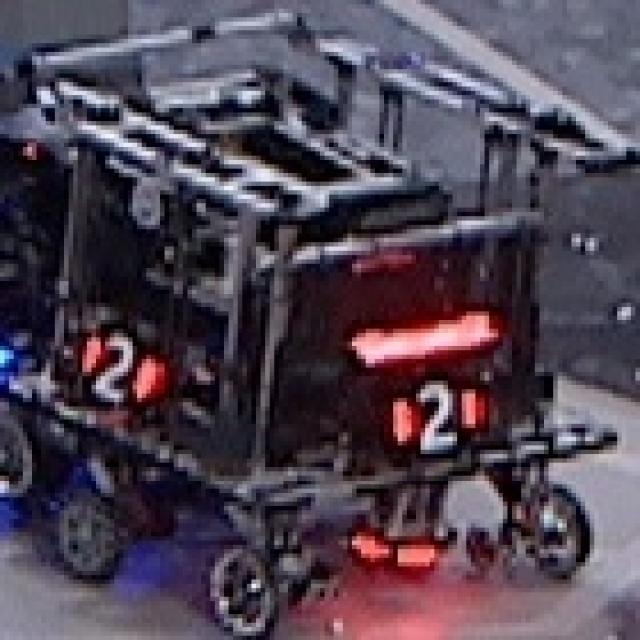R2: (373, 372, 482, 458), (57, 322, 162, 404)
